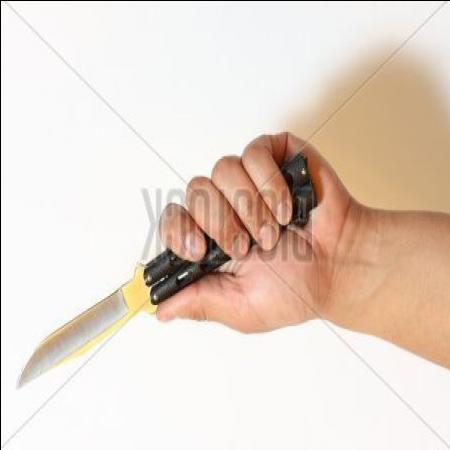long weapon: (9, 206, 233, 402)
